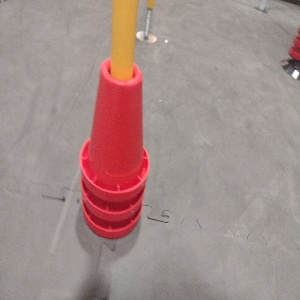Red_3: (78, 53, 149, 239)
